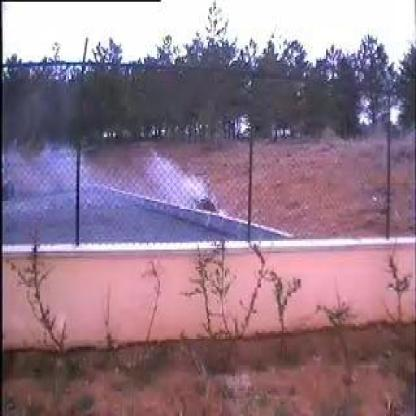-: (35, 137, 220, 239)
